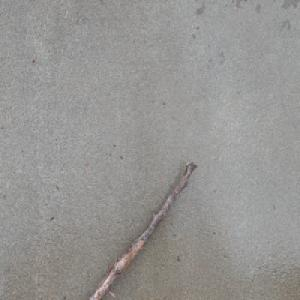Wood: (84, 159, 198, 300)
